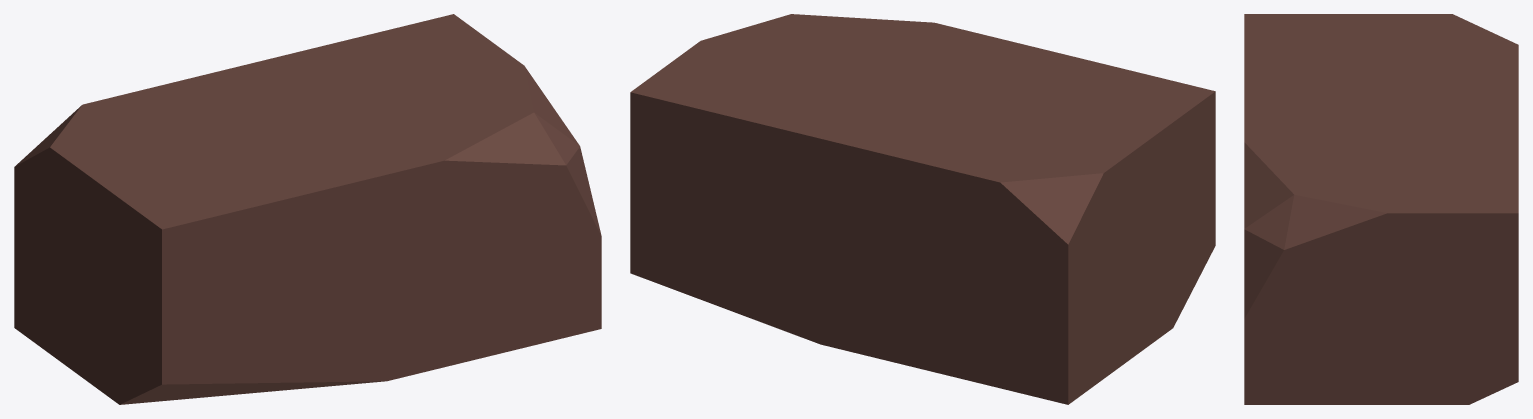
Rendered from SM_Prop_Brick_02.glb.
3 views of the same model, side by side, from view 1: azimuth 30°, elevation 25°; view 2: azimuth 150°, elevation 25°; view 3: azimuth 270°, elevation 25° (orthographic). The views are drawn at different scales.
Parts seen in each view (by area): view 1: SM_Prop_Brick_02; view 2: SM_Prop_Brick_02; view 3: SM_Prop_Brick_02.
Boxes of the visible parts, x1,y1,x2,y2 form: SM_Prop_Brick_02: (14, 14, 601, 404); SM_Prop_Brick_02: (630, 14, 1215, 404); SM_Prop_Brick_02: (1244, 14, 1518, 404).
Bounding box in the file's own units: 0.432 × 0.194 × 0.2518.
Materials: 1 (1 with a texture image).
